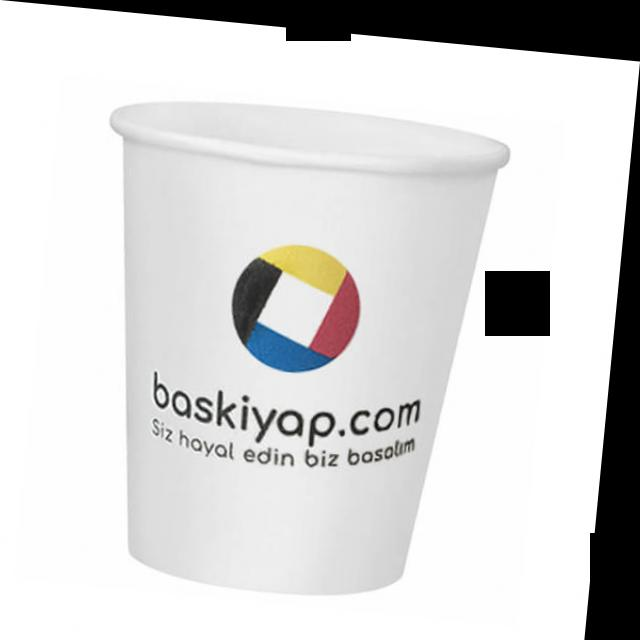karton-bardak: (76, 69, 570, 629)
